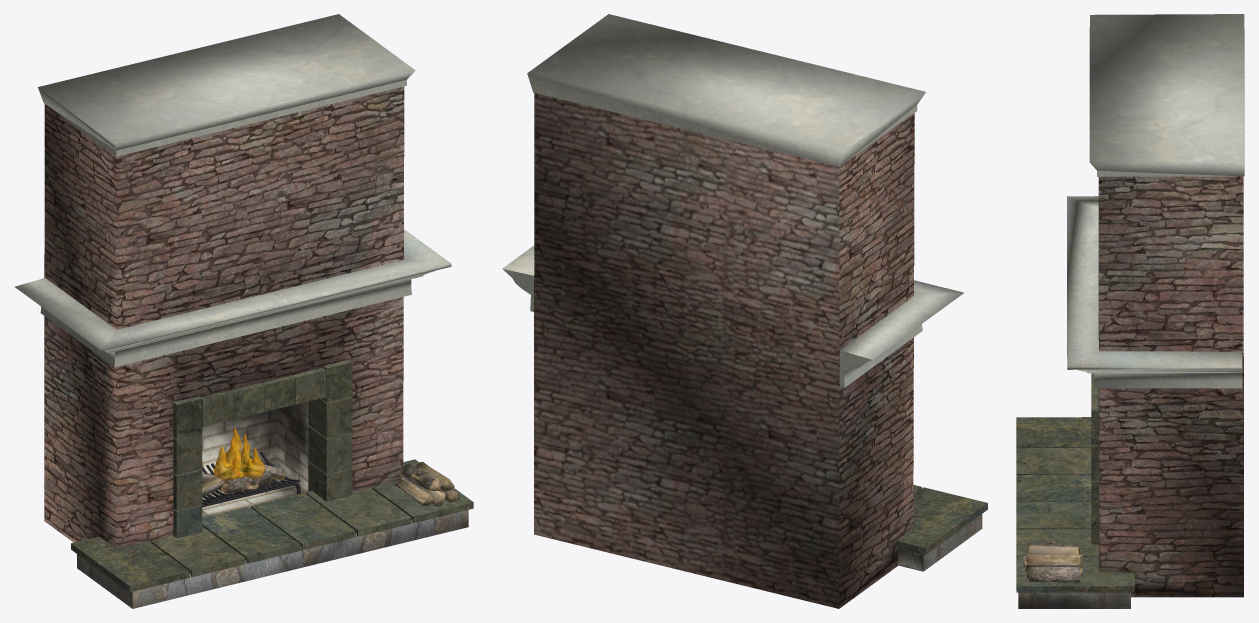
File: lareira.obj
3 views of the same model, side by side, from view 1: azimuth 30°, elevation 25°; view 2: azimuth 150°, elevation 25°; view 3: azimuth 270°, elevation 25° (orthographic). The views are drawn at different scales.
Visible parts, largest first — view 1: 13110_fireplace_woodsburn_05; view 2: 13110_fireplace_woodsburn_05; view 3: 13110_fireplace_woodsburn_05.
Boxes of the visible parts, left/top/right/bottom form: 13110_fireplace_woodsburn_05: left=14, top=14, right=473, bottom=608; 13110_fireplace_woodsburn_05: left=502, top=14, right=987, bottom=608; 13110_fireplace_woodsburn_05: left=1016, top=14, right=1244, bottom=608.
Size of the model in its own units: 6.53 by 7.75 by 3.65.
7 materials, 7 textured.
